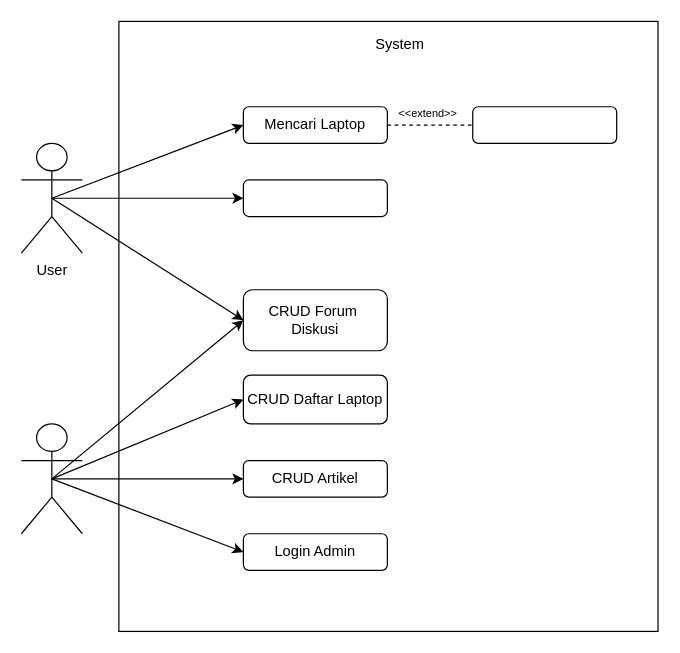
Some shapes in this 680 by 653 pixel diagram are drawn without their labels. Each missing label, with the box of its shape:
Admin: (20, 423, 82, 534)
Beri Penilaian: (472, 106, 617, 143)
Compare Laptop: (242, 179, 387, 217)
